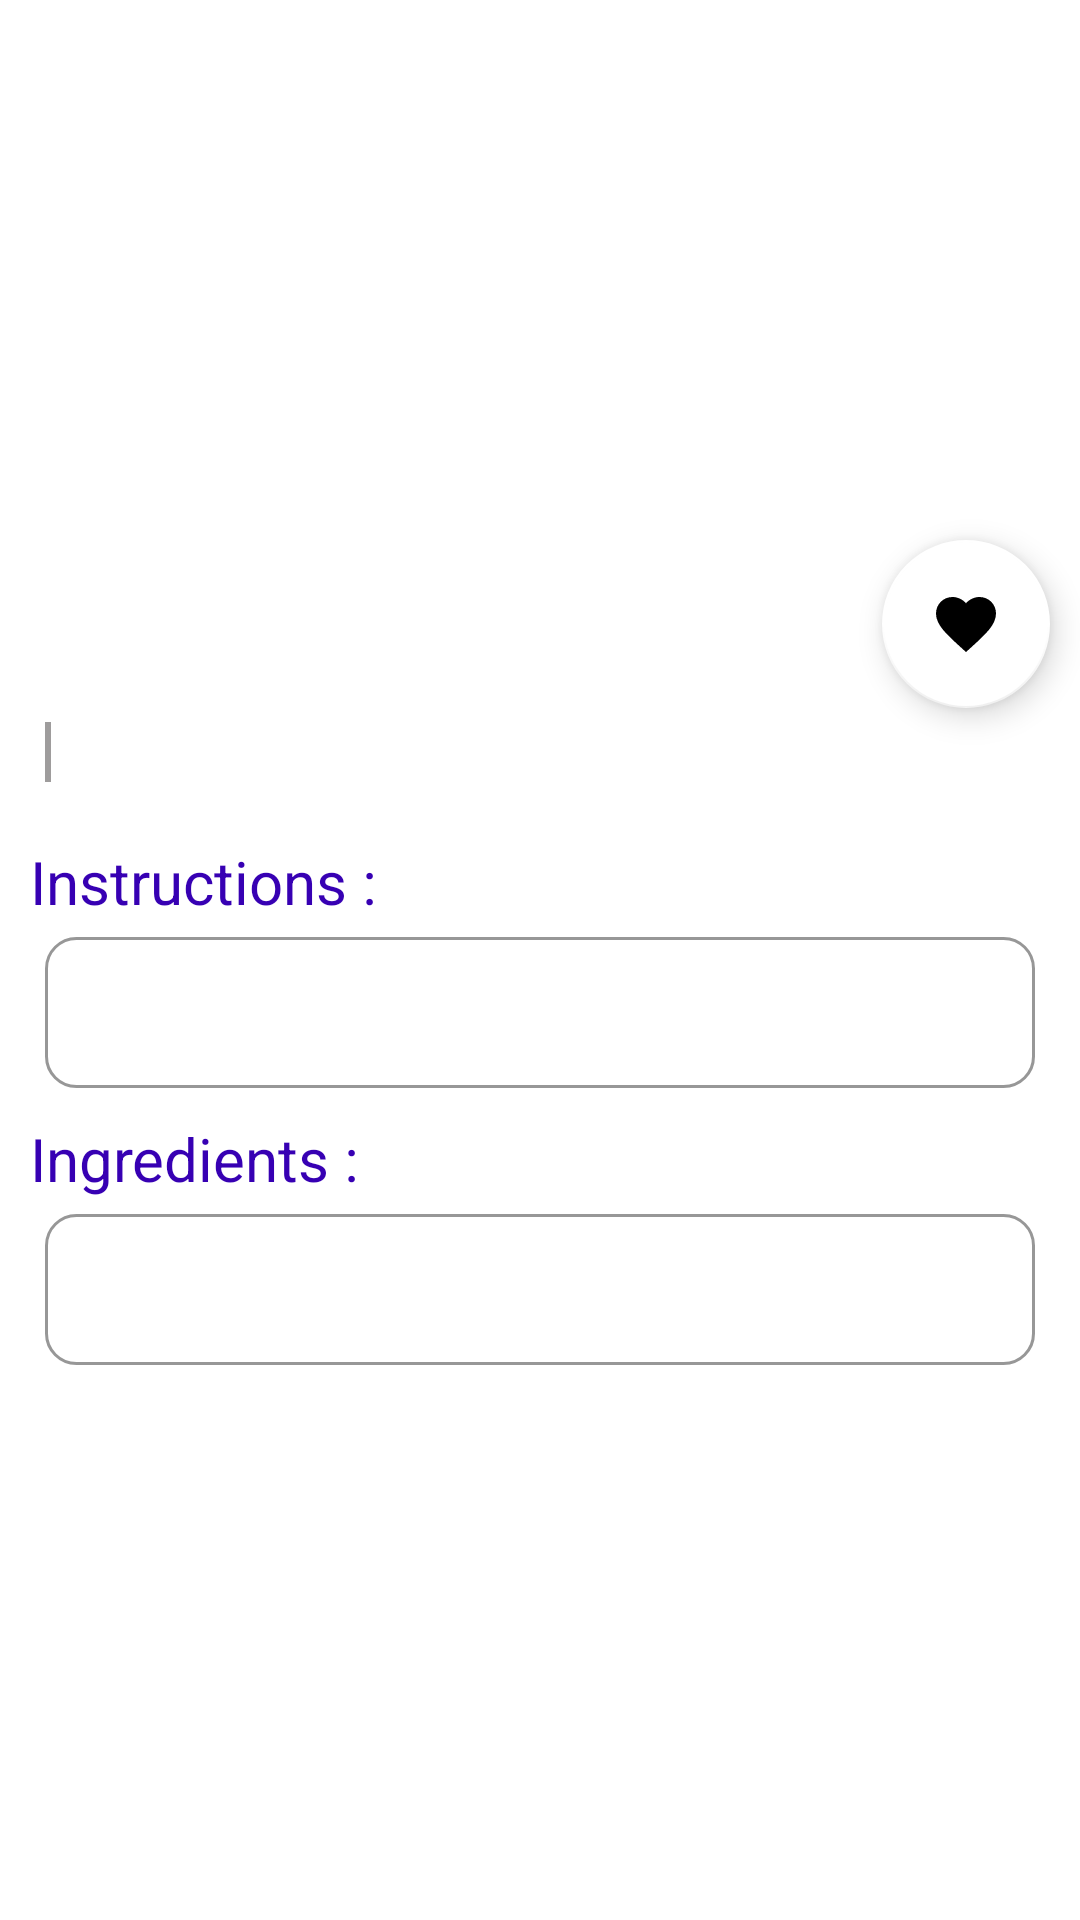

Icons on this 1080 x 1920 Android screen, each with its box as (x1, y1, x2, y2):
heart: (912, 590, 1050, 708)
